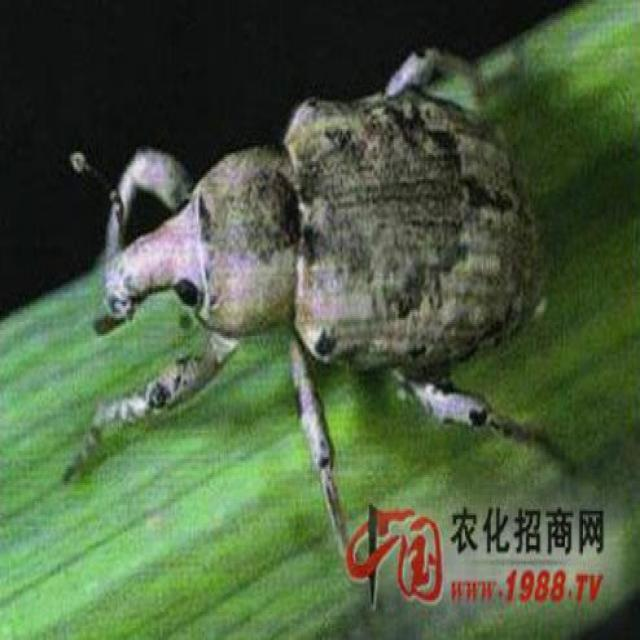ricebug: (60, 50, 540, 548)
